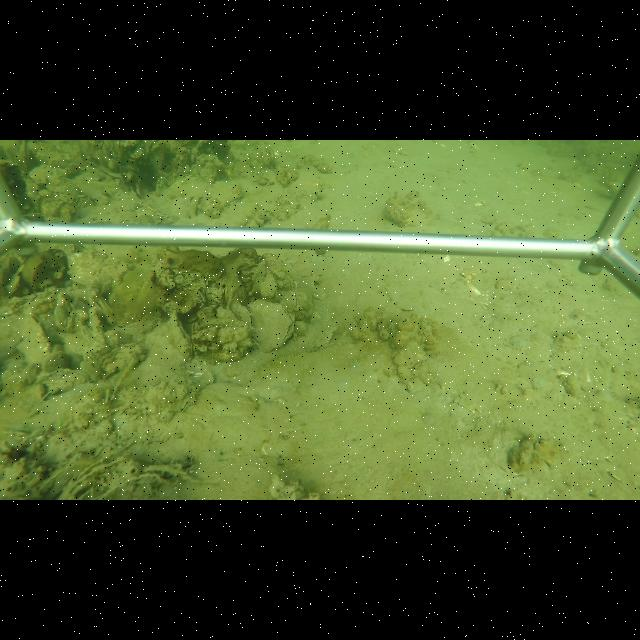Oyster-Closed: (251, 300, 295, 353), (159, 310, 194, 363), (22, 314, 52, 368), (99, 343, 145, 377), (262, 251, 288, 283), (231, 300, 256, 330)
